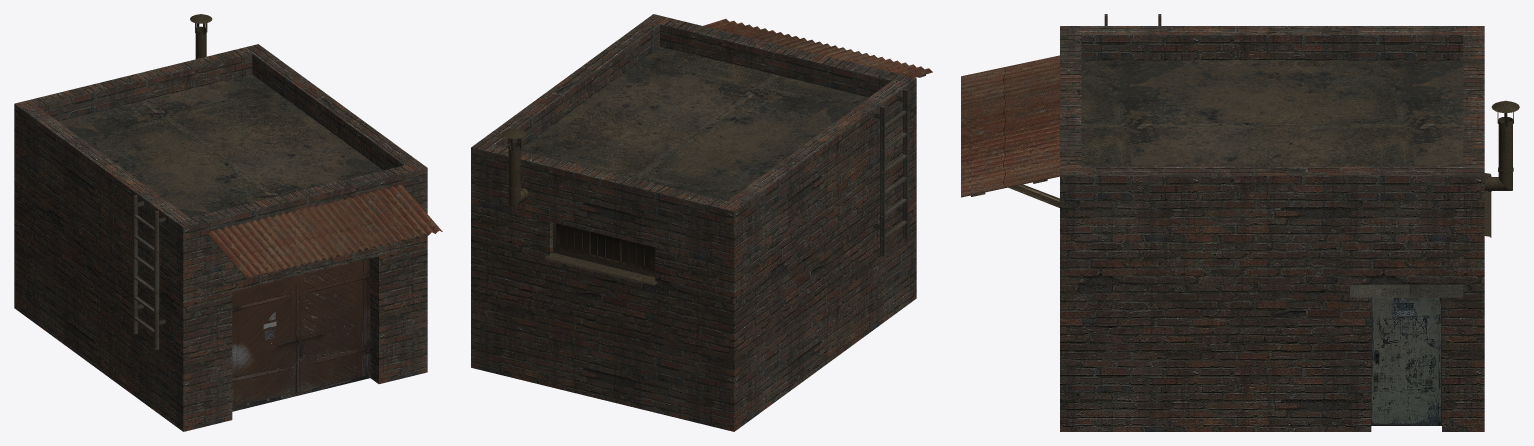
File: garage_hm_2.obj
3 views of the same model, side by side, from view 1: azimuth 30°, elevation 25°; view 2: azimuth 150°, elevation 25°; view 3: azimuth 270°, elevation 25° (orthographic). The views are drawn at different scales.
Parts seen in each view (by area): view 1: garage_hm_2; view 2: garage_hm_2; view 3: garage_hm_2.
Boxes of the visible parts, x1,y1,x2,y2 form: garage_hm_2: (14, 14, 442, 431); garage_hm_2: (471, 14, 932, 431); garage_hm_2: (961, 14, 1519, 431).
Size of the model in its own units: 5.22 by 4.7 by 7.9.
